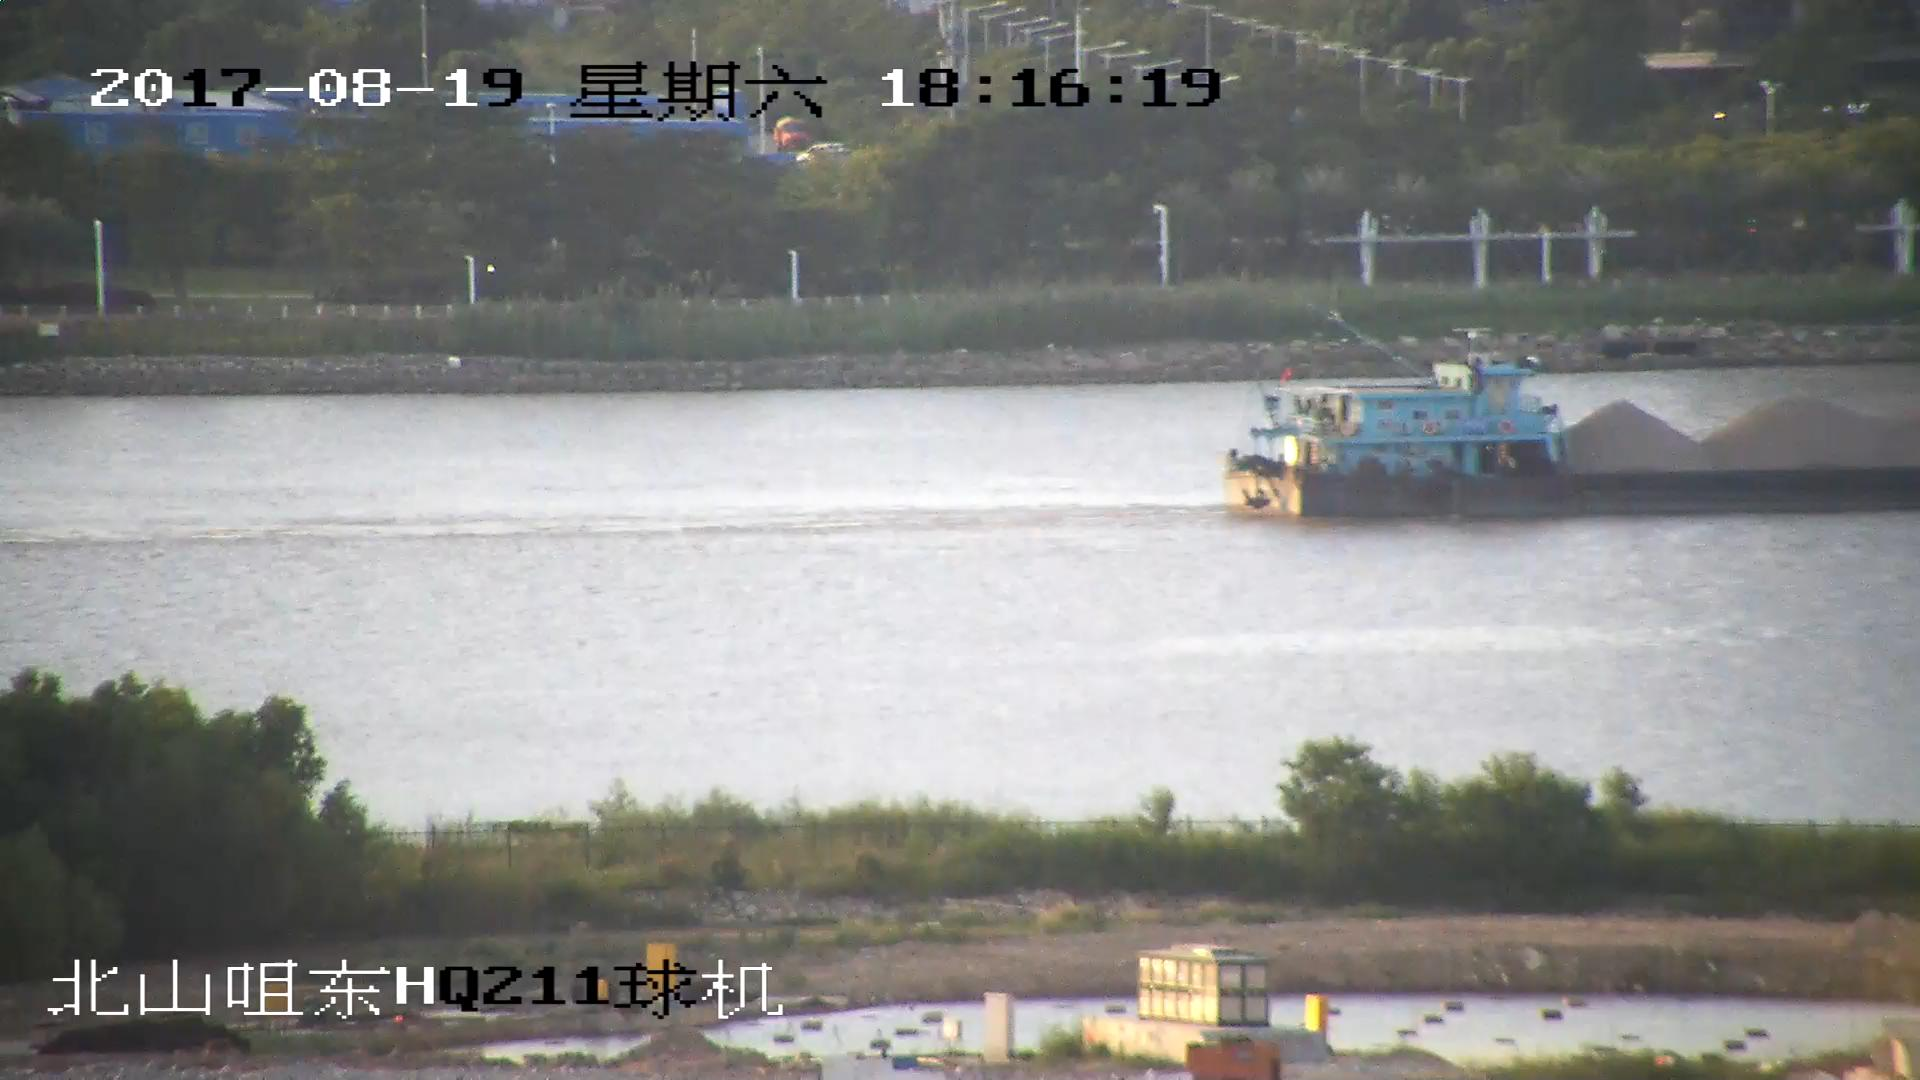ore carrier: (1227, 329, 1920, 523)
